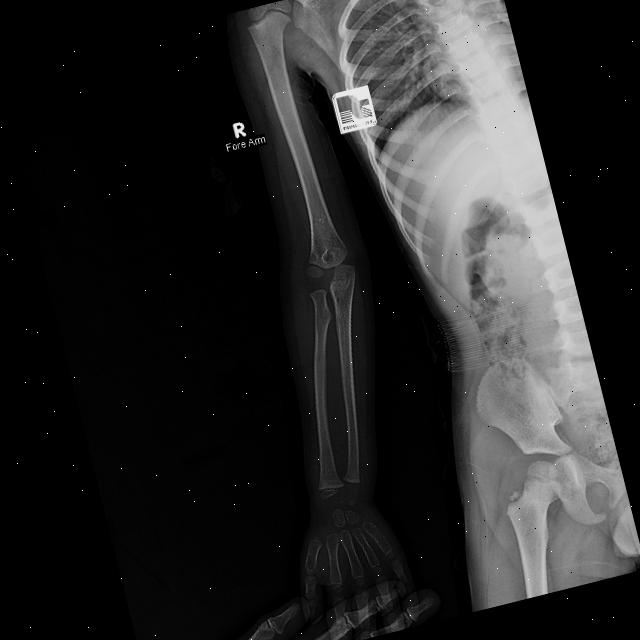Fracture: (316, 448, 337, 468)
